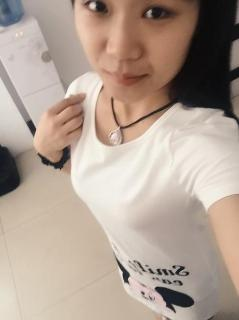short sleeve dress: (64, 71, 239, 319)
